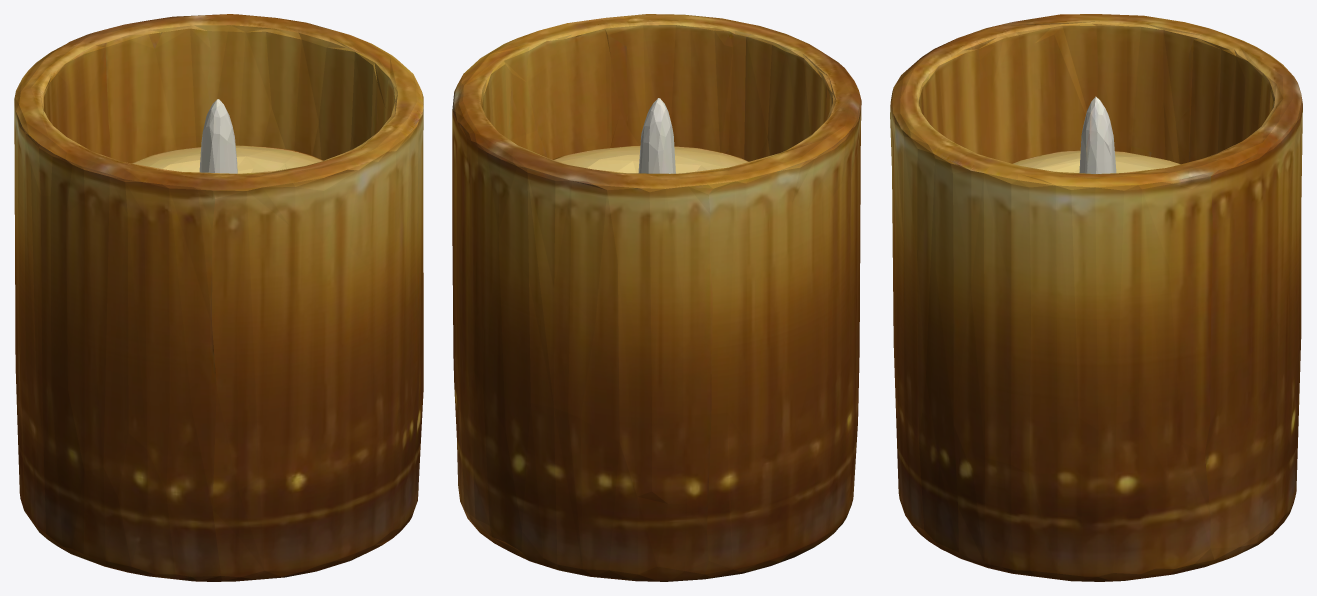
File: deco-candle2.glb
The picture shows the model from 3 angles, left to right: view 1: azimuth 30°, elevation 25°; view 2: azimuth 150°, elevation 25°; view 3: azimuth 270°, elevation 25°; orthographic projection.
Parts seen in each view (by area): view 1: world; view 2: world; view 3: world.
Boxes of the visible parts, x1,y1,x2,y2 form: world: (14, 14, 423, 581); world: (452, 14, 861, 581); world: (890, 14, 1302, 581).
Bounding box in the file's own units: 0.4554 × 0.4954 × 0.4575.
Materials: 1 (1 with a texture image).
